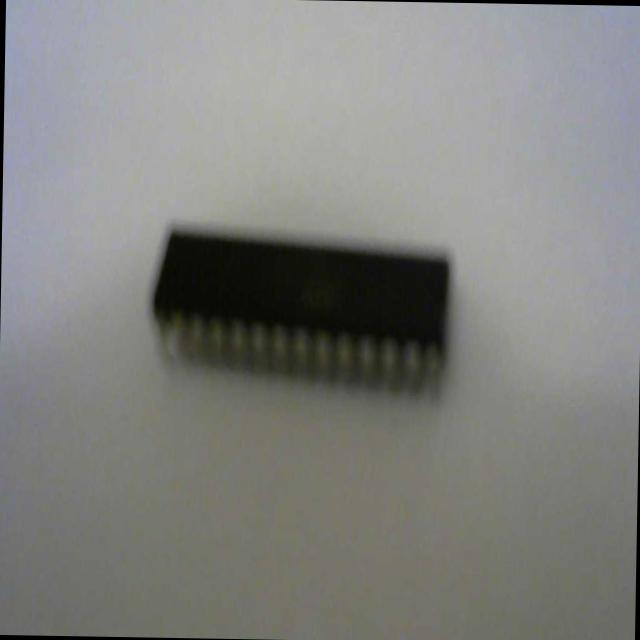atmega: (148, 218, 454, 402)
